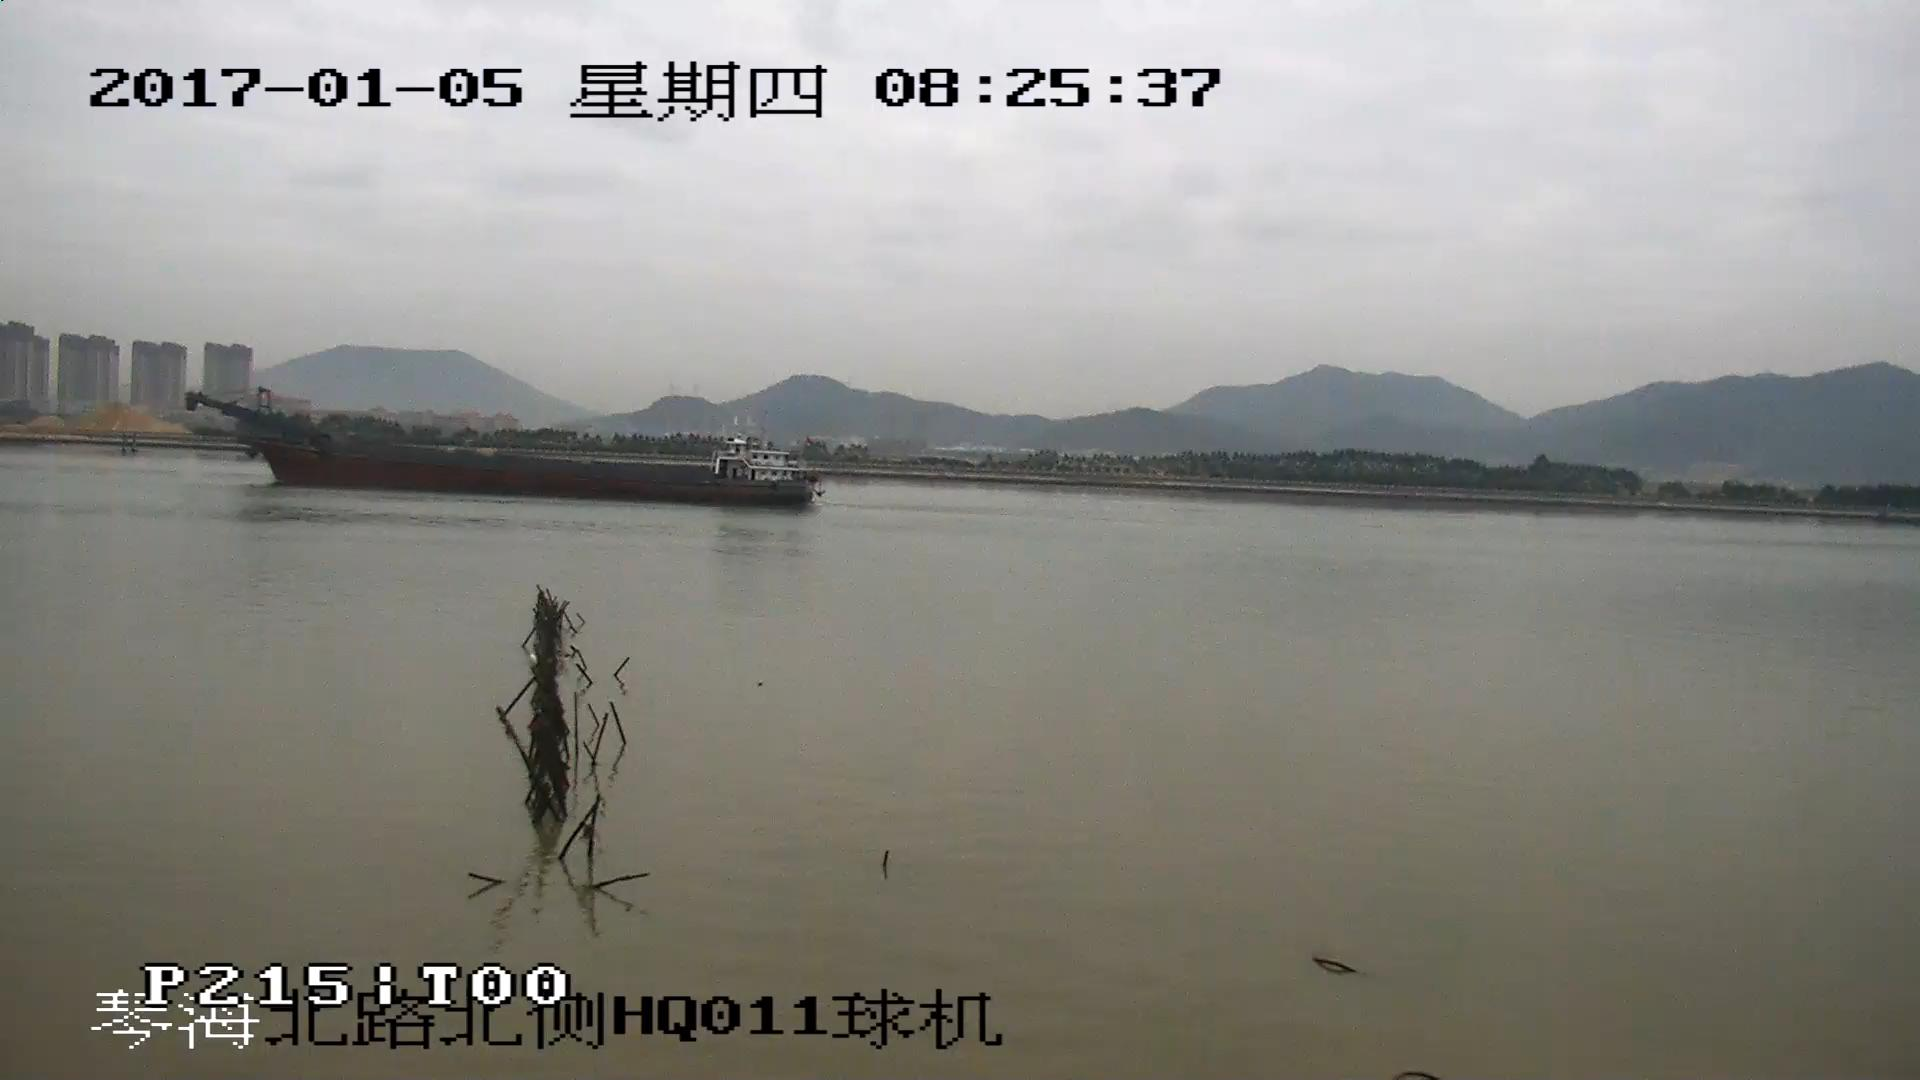bulk cargo carrier: (187, 389, 825, 507)
